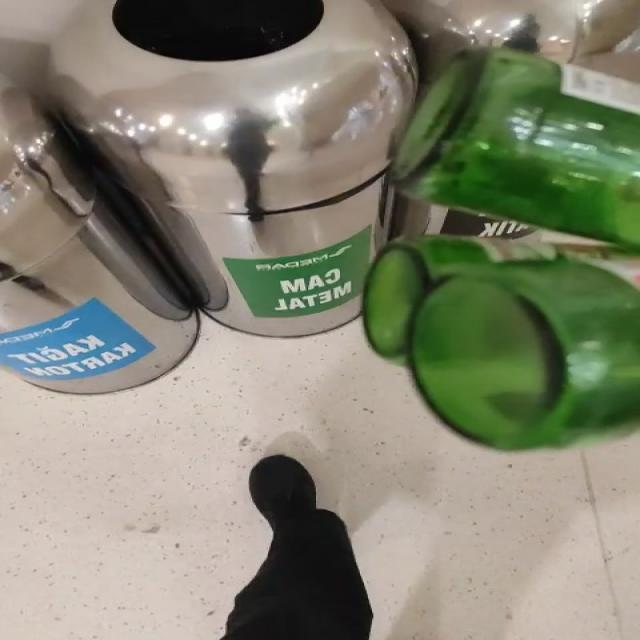bin: (0, 0, 415, 393)
glass: (364, 48, 639, 450)
